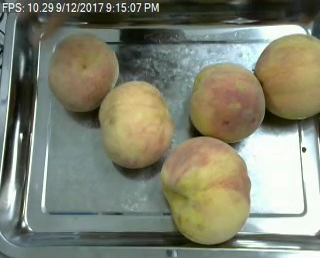Peach: (160, 134, 252, 246), (98, 80, 173, 170), (189, 62, 265, 143), (47, 33, 119, 113), (255, 32, 320, 119)
